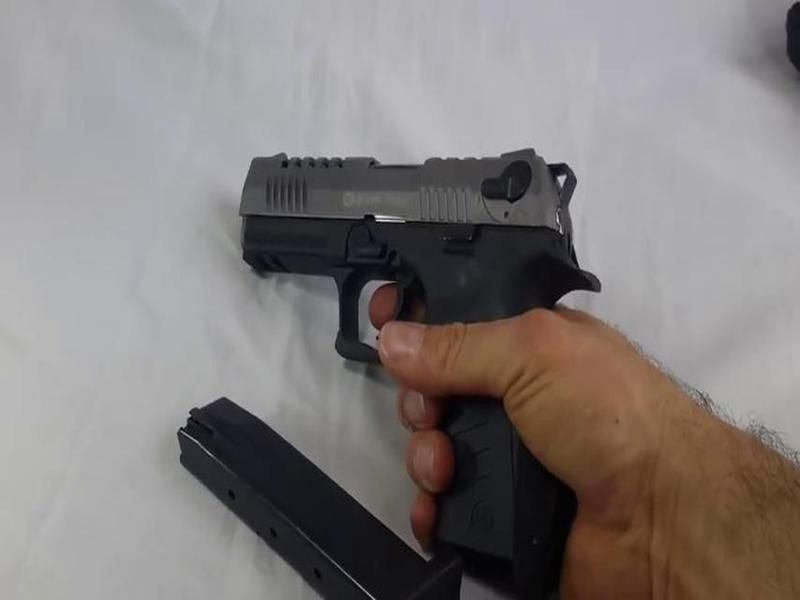Pistola: (226, 88, 576, 544)
